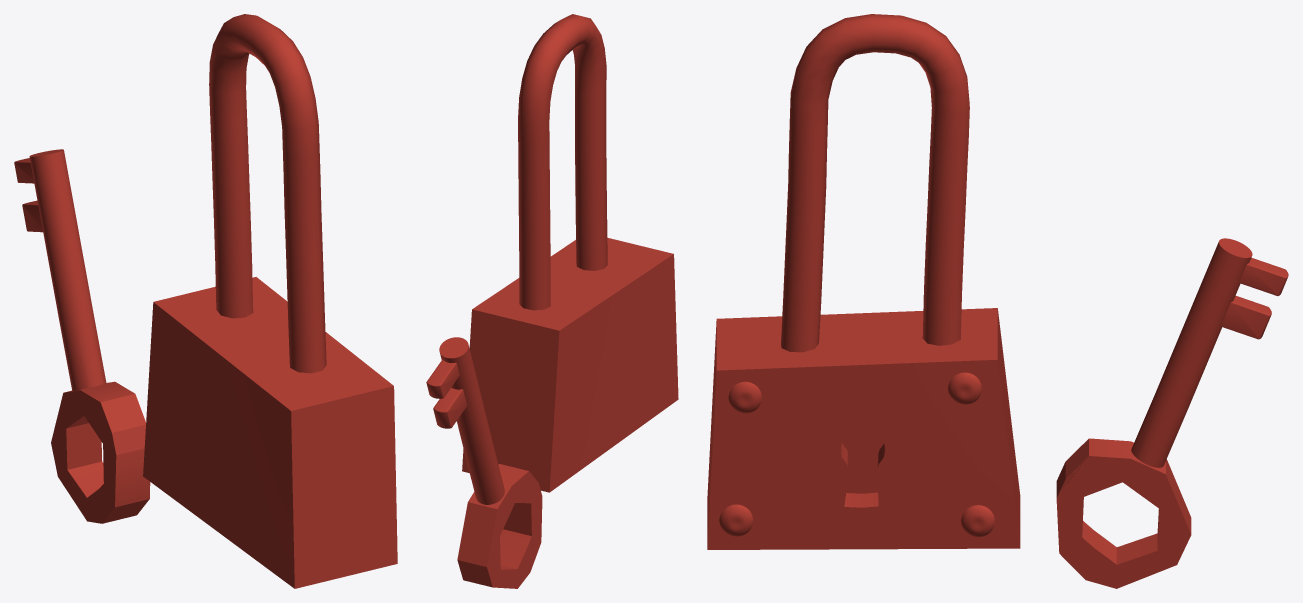
File: cadena.fbx
3 renders of one model, left to right at view 1: azimuth 30°, elevation 25°; view 2: azimuth 150°, elevation 25°; view 3: azimuth 270°, elevation 25°, orthographic. The views are drawn at different scales.
Parts seen in each view (by area): view 1: Cube, Plane; view 2: Cube, Plane; view 3: Cube, Plane.
Boxes of the visible parts, bbox=[...] form: Cube: bbox=[143, 14, 397, 588]; Plane: bbox=[14, 149, 150, 523]; Cube: bbox=[462, 14, 678, 492]; Plane: bbox=[426, 337, 542, 588]; Cube: bbox=[707, 14, 1020, 549]; Plane: bbox=[1056, 238, 1288, 588].
Size of the model in its own units: 86.11 by 396 by 356.
